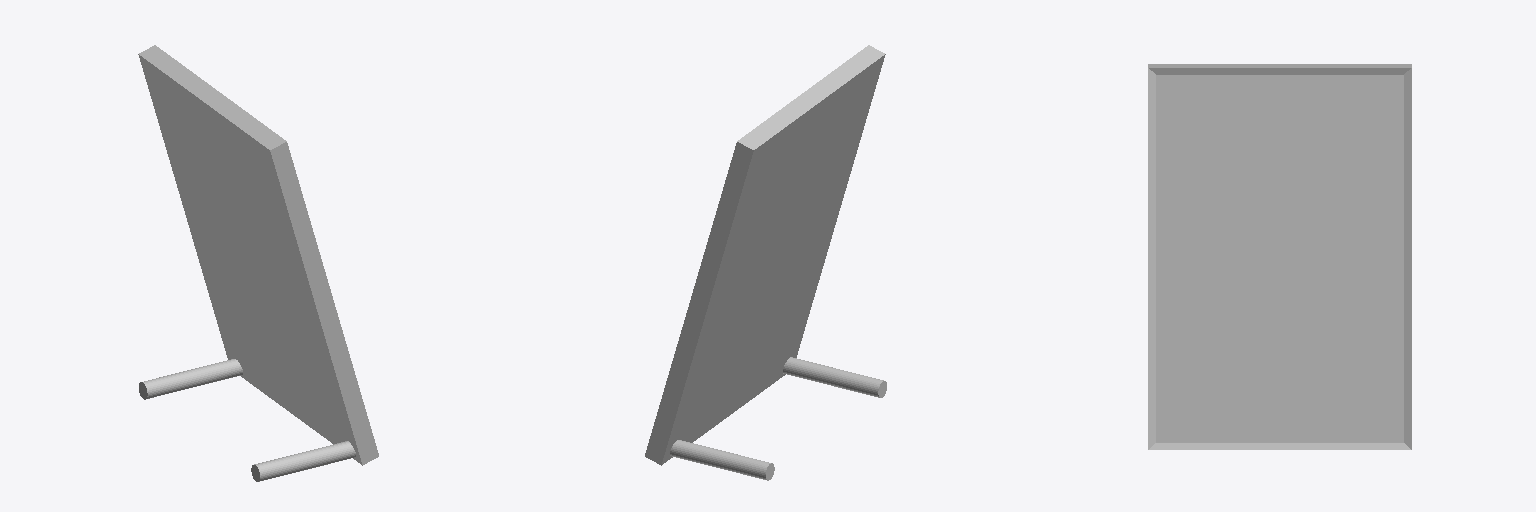
Rendered from small standing picture frame.obj.
3 views of the same model, side by side, from view 1: azimuth 30°, elevation 25°; view 2: azimuth 150°, elevation 25°; view 3: azimuth 270°, elevation 25° (orthographic).
Visible parts, largest first — view 1: cadre_Cube.001, Cylinder, Cylinder.001_Cylinder; view 2: cadre_Cube.001, Cylinder.001_Cylinder, Cylinder; view 3: centre_Cube.002, cadre_Cube.001.
Part boxes in pixels (x1,y1,x2,y2): cadre_Cube.001: (138,45,378,465); Cylinder: (251,441,355,481); Cylinder.001_Cylinder: (139,359,242,399); cadre_Cube.001: (645,45,885,465); Cylinder.001_Cylinder: (670,440,774,480); Cylinder: (783,357,886,397); centre_Cube.002: (1156,75,1403,441); cadre_Cube.001: (1148,64,1411,449).
Size of the model in its own units: 0.419 by 1.19 by 0.8306.